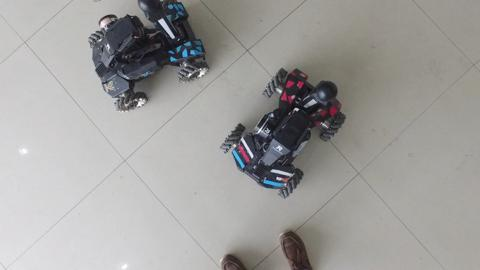chariot: (220, 61, 349, 204), (82, 1, 214, 118)
